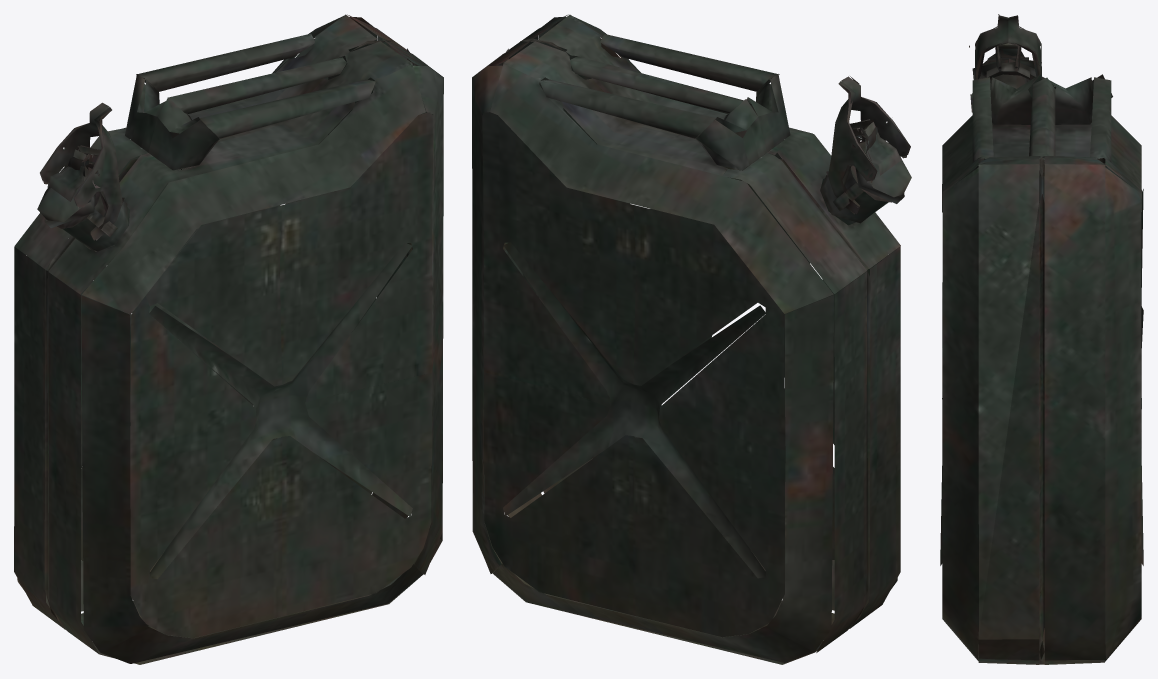
File: jerrycan.glb
3 views of the same model, side by side, from view 1: azimuth 30°, elevation 25°; view 2: azimuth 150°, elevation 25°; view 3: azimuth 270°, elevation 25° (orthographic). The views are drawn at different scales.
Parts seen in each view (by area): view 1: jerrycan; view 2: jerrycan; view 3: jerrycan.
Boxes of the visible parts, left/top/right/bottom form: jerrycan: left=14, top=14, right=443, bottom=664; jerrycan: left=472, top=14, right=911, bottom=664; jerrycan: left=940, top=14, right=1143, bottom=664.
Size of the model in its own units: 0.3623 by 0.4992 by 0.1751.
Materials: 1 (1 with a texture image).
